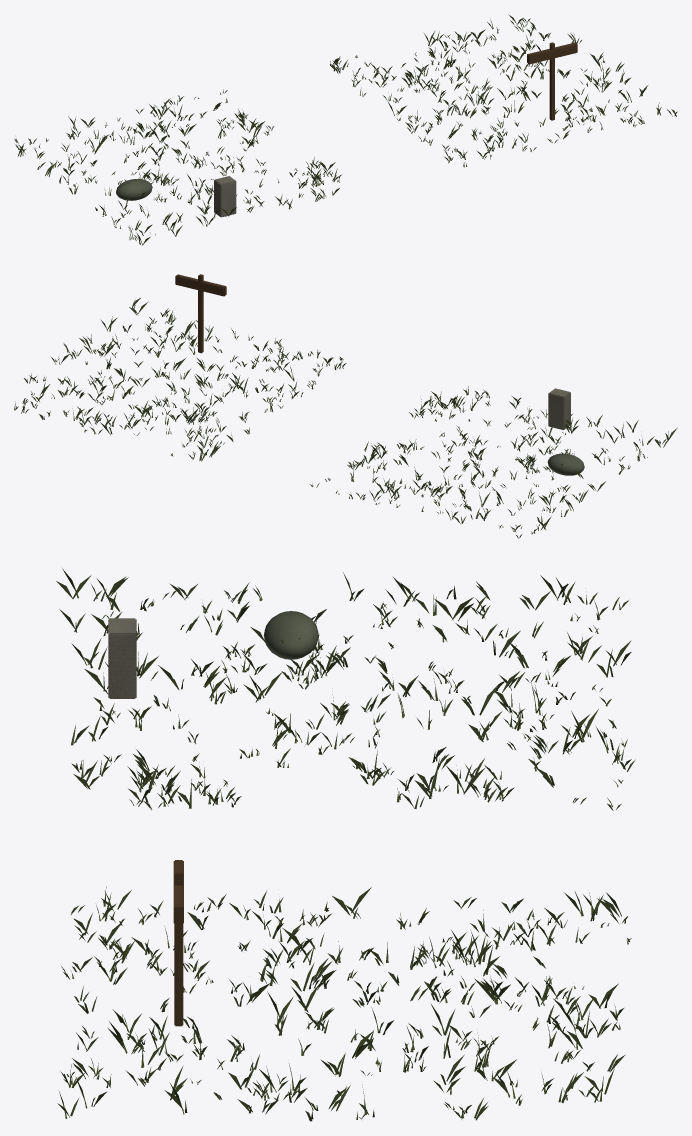
File: road-v1.glb
3 renders of one model, top to bottom at view 1: azimuth 30°, elevation 25°; view 2: azimuth 150°, elevation 25°; view 3: azimuth 270°, elevation 25°, orthographic. The views are drawn at different scales.
Visible parts, largest first — view 1: Grass blades, Milestone, Verge boulder, Road sign, Waypost; view 2: Grass blades, Milestone, Verge boulder, Road sign, Waypost; view 3: Grass blades, Milestone, Verge boulder, Waypost.
Boxes of the visible parts, x1,y1,x2,y2 form: Grass blades: (14, 14, 677, 245); Milestone: (214, 176, 236, 217); Verge boulder: (116, 179, 152, 200); Road sign: (527, 42, 577, 64); Waypost: (549, 42, 554, 120); Grass blades: (14, 298, 677, 538); Milestone: (548, 388, 570, 429); Verge boulder: (547, 453, 584, 475); Road sign: (175, 274, 226, 296); Waypost: (198, 274, 203, 353); Grass blades: (56, 568, 635, 1121); Milestone: (108, 618, 136, 698); Verge boulder: (263, 611, 318, 659); Waypost: (174, 870, 183, 1026).
Size of what is drawn, in the model's own units: 22.48 by 3.17 by 10.31.
5 materials, 5 textured.
